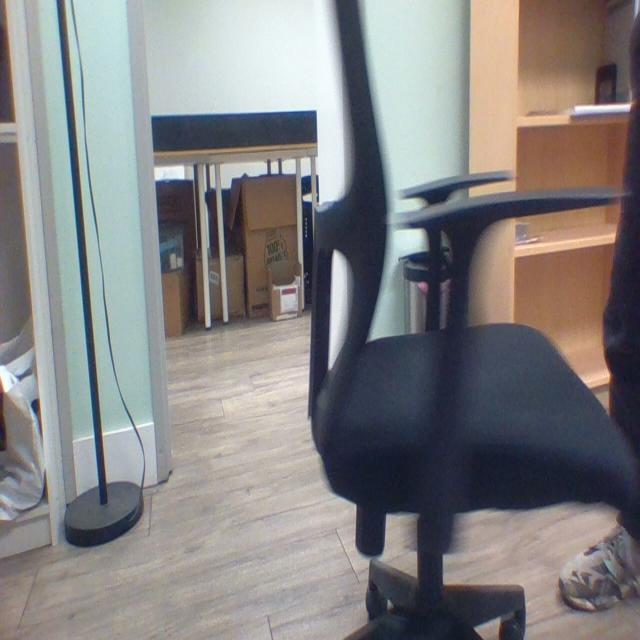black-chair: (295, 0, 609, 632)
